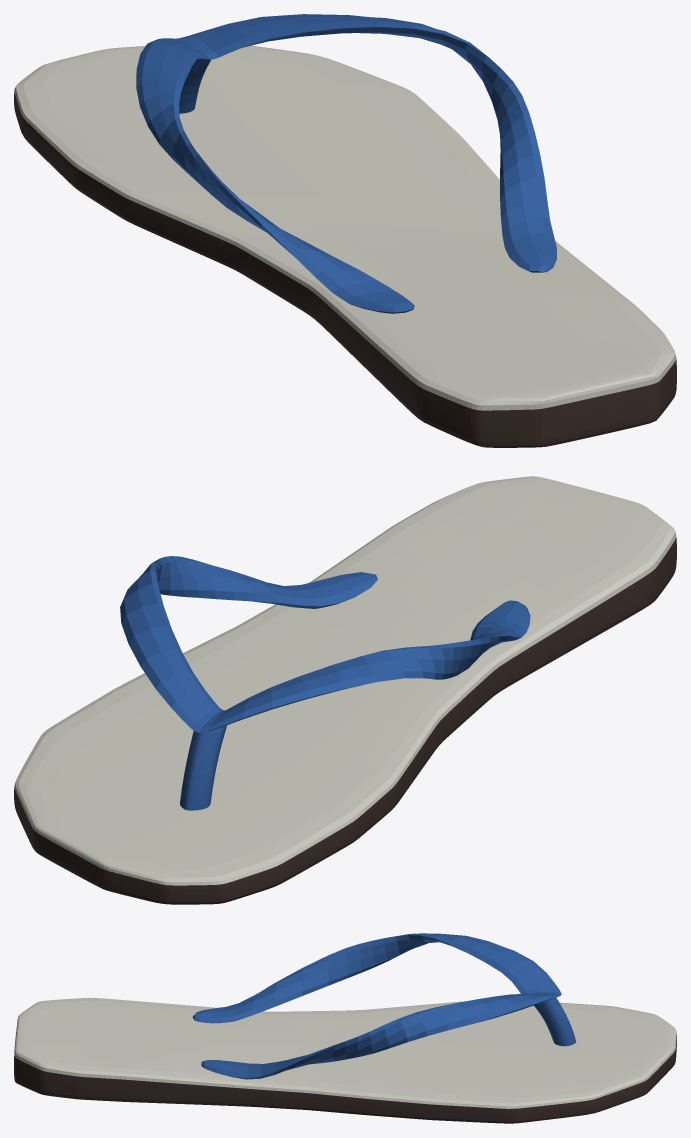
File: Tsinelas.fbx
3 renders of one model, top to bottom at view 1: azimuth 30°, elevation 25°; view 2: azimuth 150°, elevation 25°; view 3: azimuth 270°, elevation 25°, orthographic. The views are drawn at different scales.
Visible parts, largest first — view 1: Base, Tali, Tali 2; view 2: Base, Tali, Tali 2; view 3: Base, Tali, Tali 2.
Part boxes in pixels (left/top/right/bottom): Base: left=14, top=45, right=676, bottom=447; Tali: left=136, top=14, right=556, bottom=313; Tali 2: left=179, top=59, right=210, bottom=113; Base: left=14, top=476, right=676, bottom=904; Tali: left=120, top=556, right=530, bottom=732; Tali 2: left=180, top=725, right=226, bottom=810; Base: left=14, top=997, right=676, bottom=1123; Tali: left=192, top=933, right=561, bottom=1079; Tali 2: left=534, top=997, right=576, bottom=1046.
Bounding box in the file's own units: 146 × 64.61 × 384.
